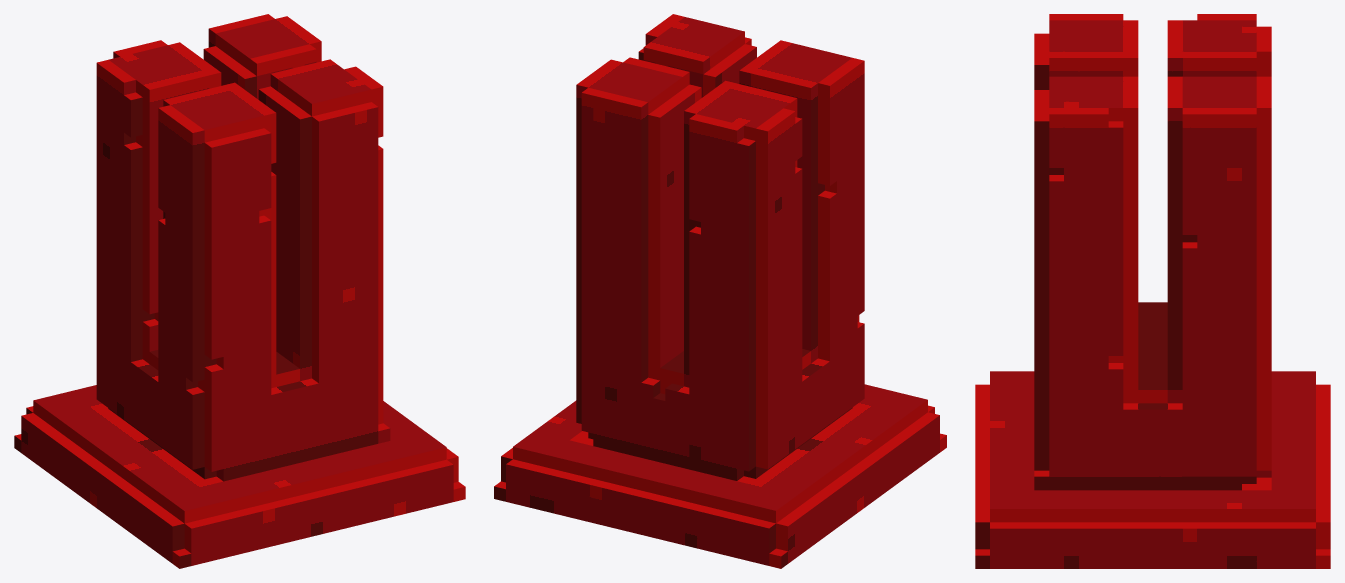
Rendered from fork_redao.fezao.glb.
3 renders of one model, left to right at view 1: azimuth 30°, elevation 25°; view 2: azimuth 150°, elevation 25°; view 3: azimuth 270°, elevation 25°, orthographic. The views are drawn at different scales.
Visible parts, largest first — view 1: FORK_REDAO; view 2: FORK_REDAO; view 3: FORK_REDAO.
Boxes of the visible parts, x1,y1,x2,y2 form: FORK_REDAO: (14, 14, 465, 568); FORK_REDAO: (494, 14, 946, 568); FORK_REDAO: (975, 14, 1330, 568).
Size of the model in its own units: 1.5 by 2 by 1.5.
1 material, 1 textured.
